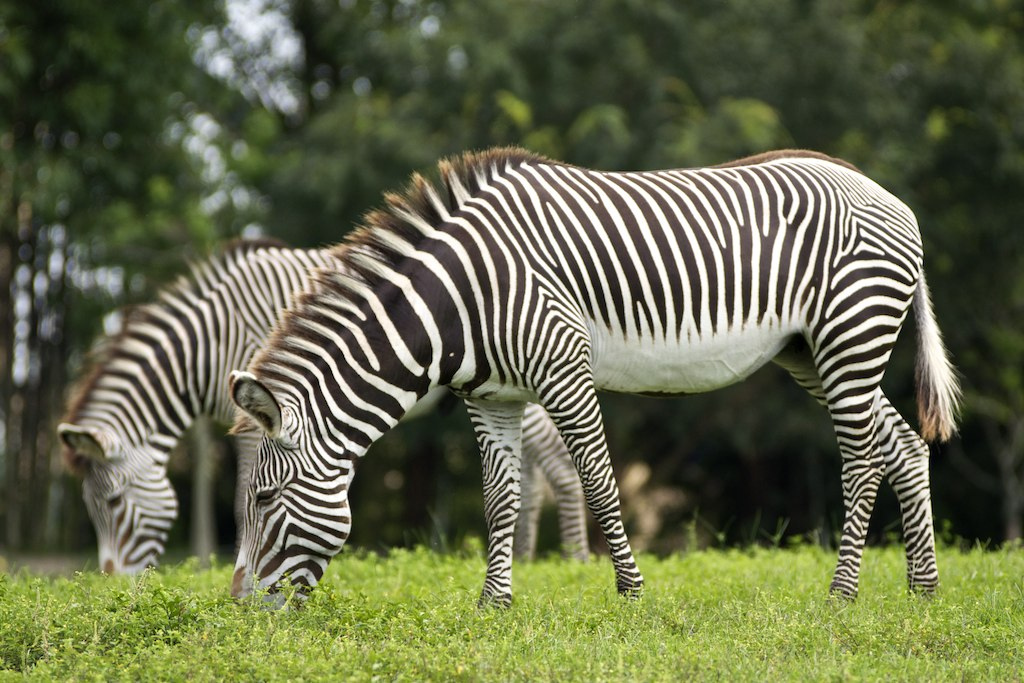zebra: (242, 138, 959, 611), (48, 233, 591, 578)
